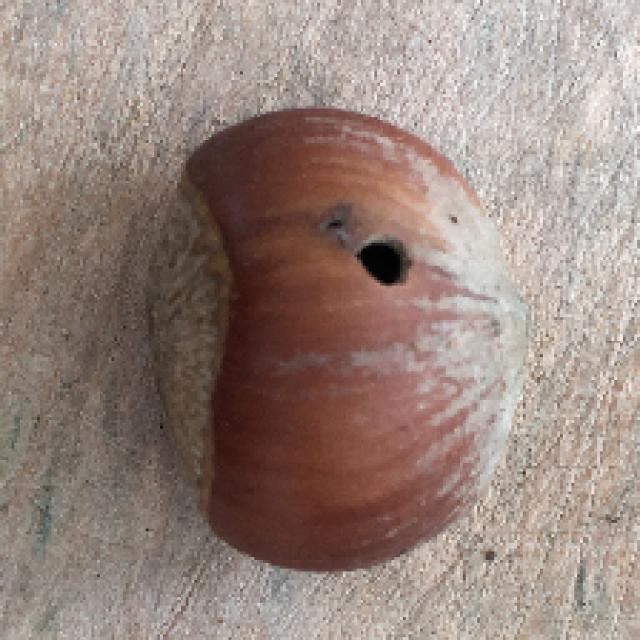damagedHazelnut: (147, 101, 521, 575)
